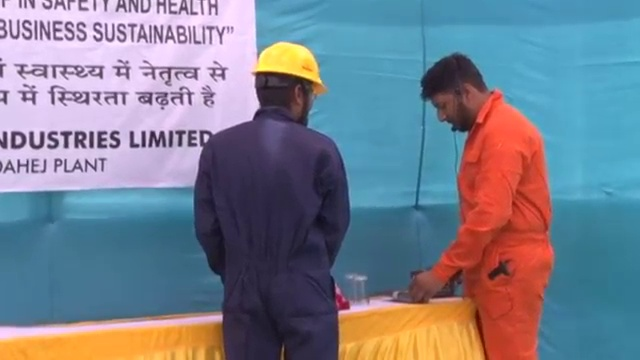helmet: (248, 42, 329, 94)
helmet_off: (419, 52, 491, 135)
helmet_on: (248, 41, 328, 120)
person: (193, 42, 353, 360), (415, 52, 556, 360)
